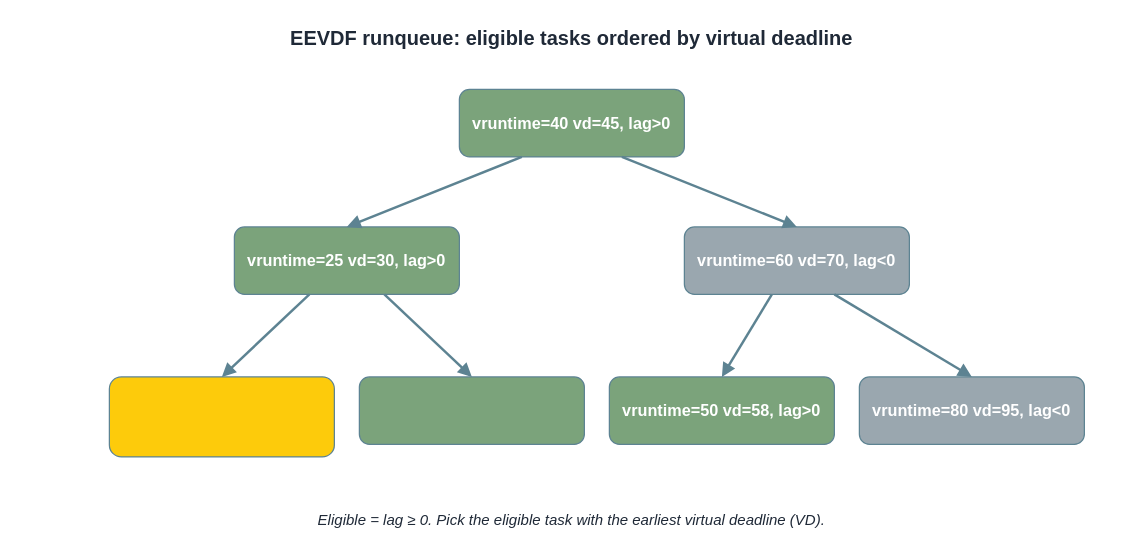
The diagram is 1143 pixels wide and 560 high, and some of its shapes have lost their labels. The centre of each missing label's shape, as x and y in pixels:
"vruntime=10 vd=20, lag>0 ← earliest eligible vd" goes at pixel 221 416.
"vruntime=30 vd=38, lag>0" goes at pixel 471 410.
